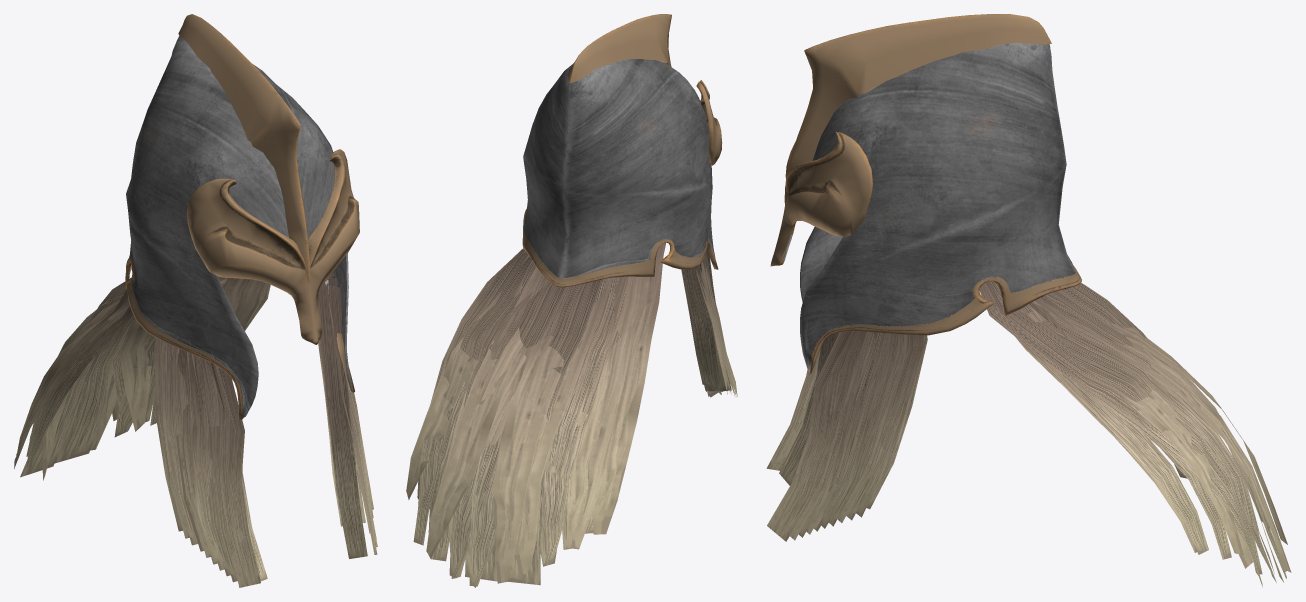
Rendered from mkwd_inf1_t2_helmet_silver_hc.fbx.
The picture shows the model from 3 angles, left to right: view 1: azimuth 30°, elevation 25°; view 2: azimuth 150°, elevation 25°; view 3: azimuth 270°, elevation 25°; orthographic projection. The views are drawn at different scales.
Parts seen in each view (by area): view 1: mkwd_inf1_t2_helmet_silver_hc.lod0.1, mkwd_inf1_t2_helmet_silver_hc.lod0.0; view 2: mkwd_inf1_t2_helmet_silver_hc.lod0.0, mkwd_inf1_t2_helmet_silver_hc.lod0.1; view 3: mkwd_inf1_t2_helmet_silver_hc.lod0.1, mkwd_inf1_t2_helmet_silver_hc.lod0.0.
Part boxes in pixels (x1,y1,x2,y2): mkwd_inf1_t2_helmet_silver_hc.lod0.1: [125, 14, 359, 419]; mkwd_inf1_t2_helmet_silver_hc.lod0.0: [14, 272, 377, 587]; mkwd_inf1_t2_helmet_silver_hc.lod0.0: [406, 235, 737, 587]; mkwd_inf1_t2_helmet_silver_hc.lod0.1: [522, 14, 722, 287]; mkwd_inf1_t2_helmet_silver_hc.lod0.1: [770, 14, 1081, 373]; mkwd_inf1_t2_helmet_silver_hc.lod0.0: [766, 281, 1291, 587].
Size of the model in its own units: 0.239 by 0.4703 by 0.5515.
2 materials, 2 textured.
